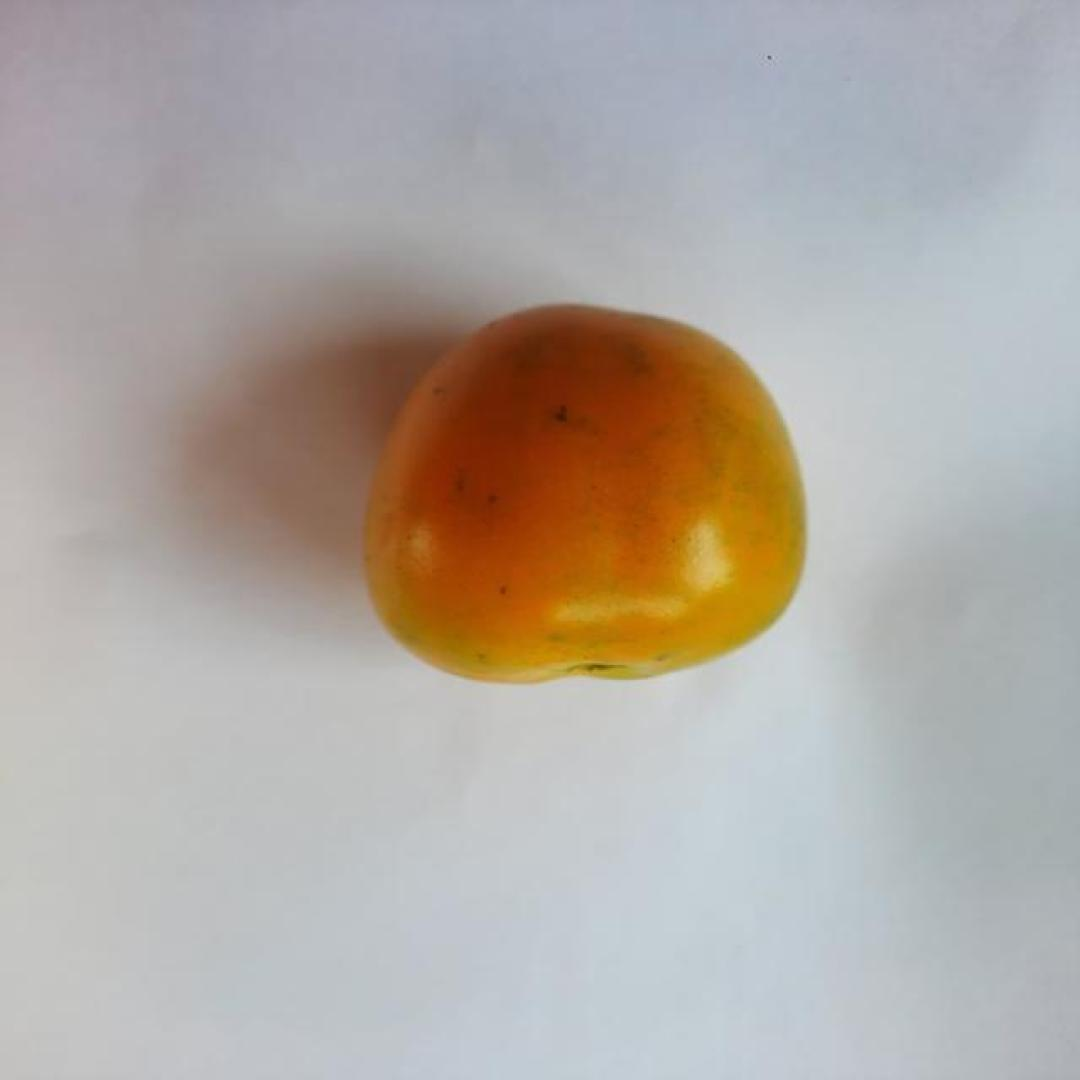setengah_matang: (359, 300, 815, 687)
